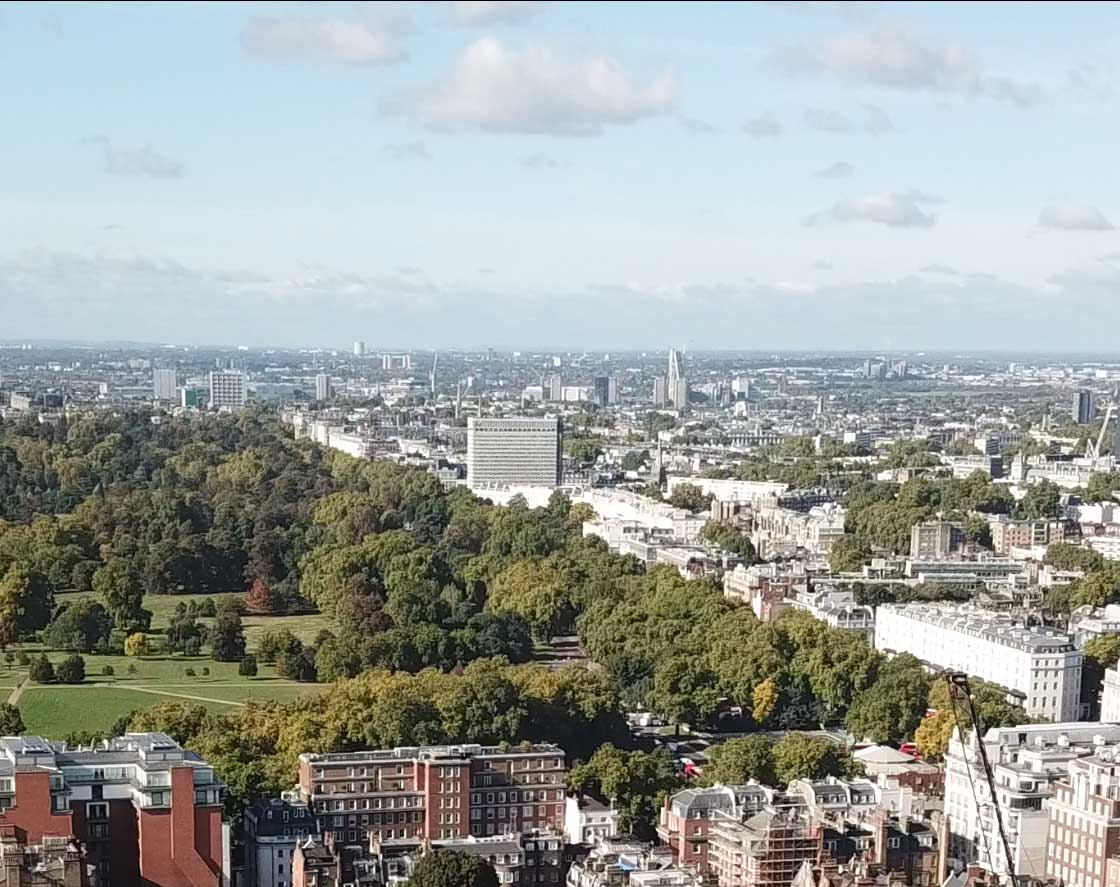building: (856, 586, 1096, 731), (289, 733, 578, 844), (455, 410, 573, 507)
trees: (10, 419, 323, 581), (327, 493, 587, 634), (598, 572, 794, 713)
